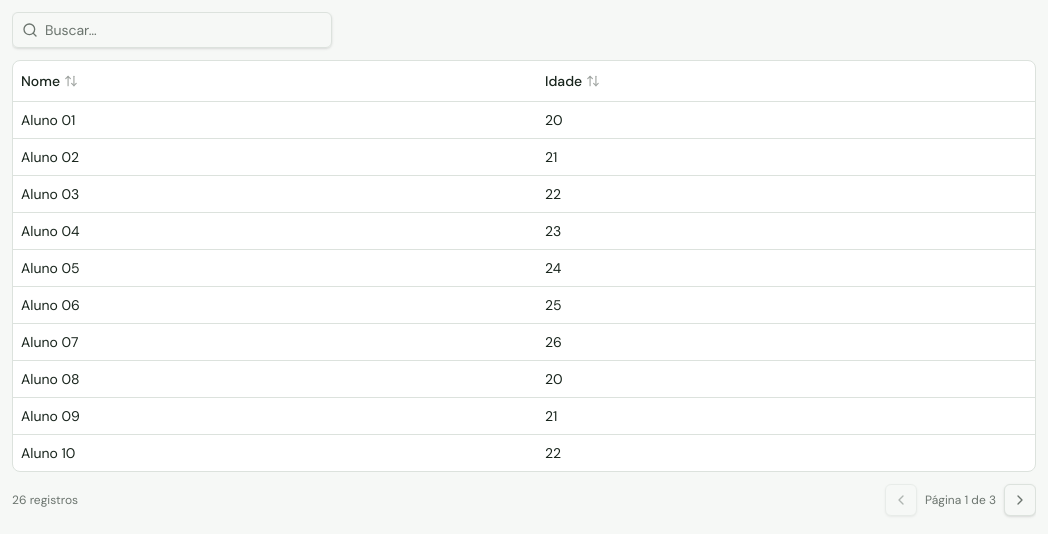
it: DataTable › pagina no cliente (10 por página)
Expected: the text with test id "table-count" reads "26 registros", [12,492,78,508]
Click the button named "Próxima página" at point(1020, 500), box [1004,484,1036,516]
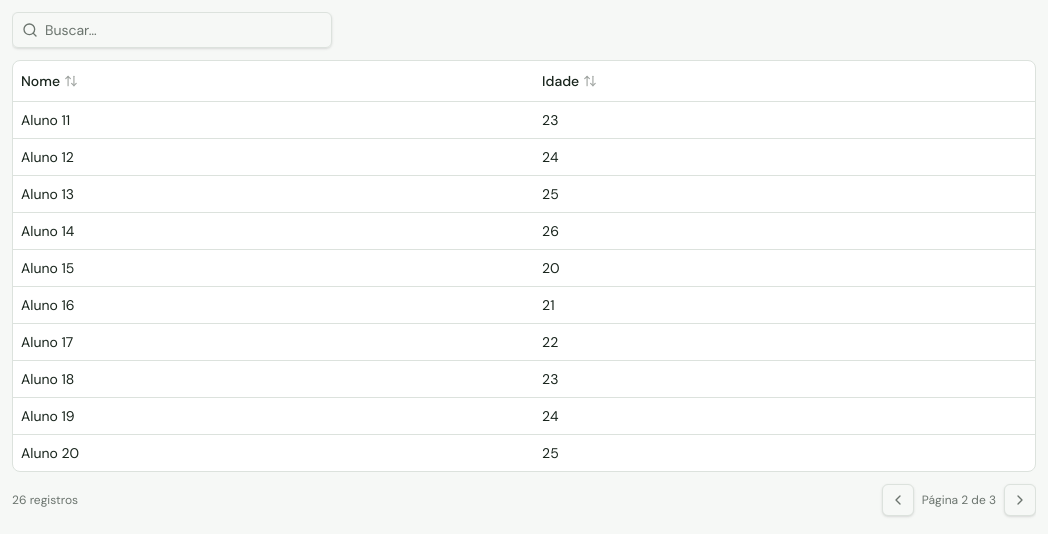
Expected: the text "Página 2 de 3" is shown, [922,492,996,508]
Expected: the row "Aluno 11 23" is shown, [13,101,1035,138]
